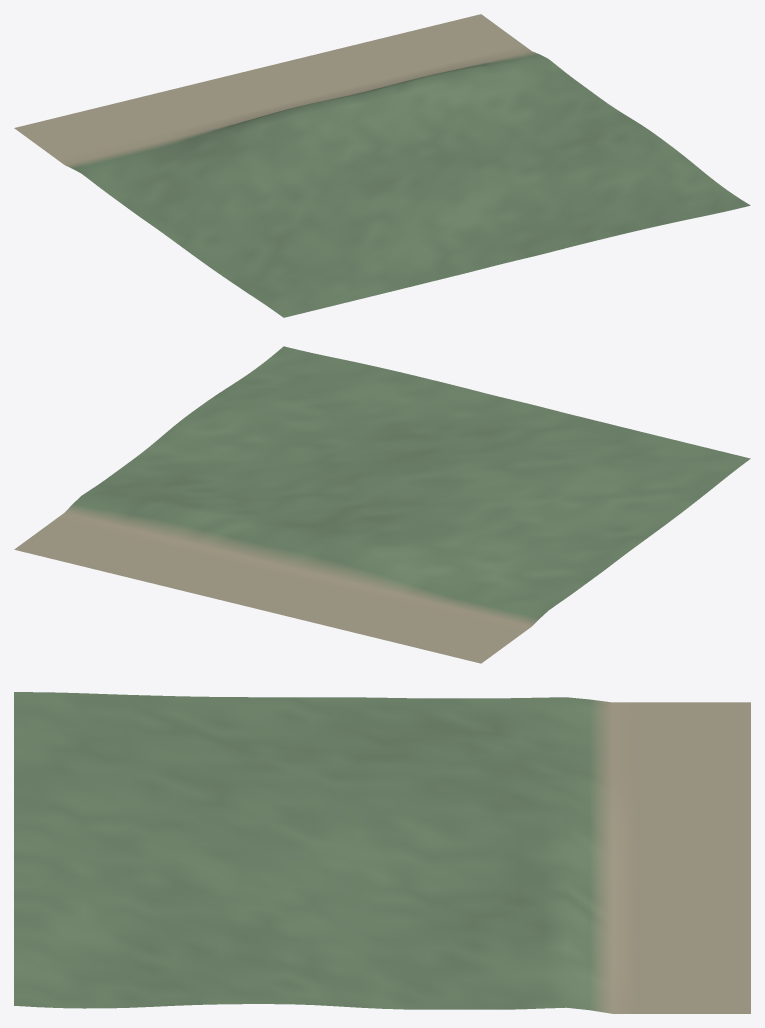
3 renders of one model, top to bottom at view 1: azimuth 30°, elevation 25°; view 2: azimuth 150°, elevation 25°; view 3: azimuth 270°, elevation 25°, orthographic. The views are drawn at different scales.
Parts seen in each view (by area): view 1: Terrain-col; view 2: Terrain-col; view 3: Terrain-col.
Boxes of the visible parts, x1,y1,x2,y2 form: Terrain-col: (14,14,750,317); Terrain-col: (14,346,750,663); Terrain-col: (14,692,750,1013).
Size of the model in its own units: 256 by 9.04 by 256.
